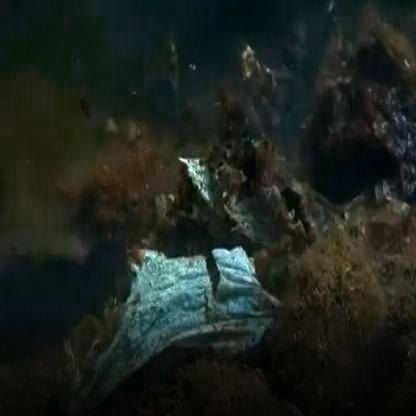plastic: (78, 243, 268, 359)
